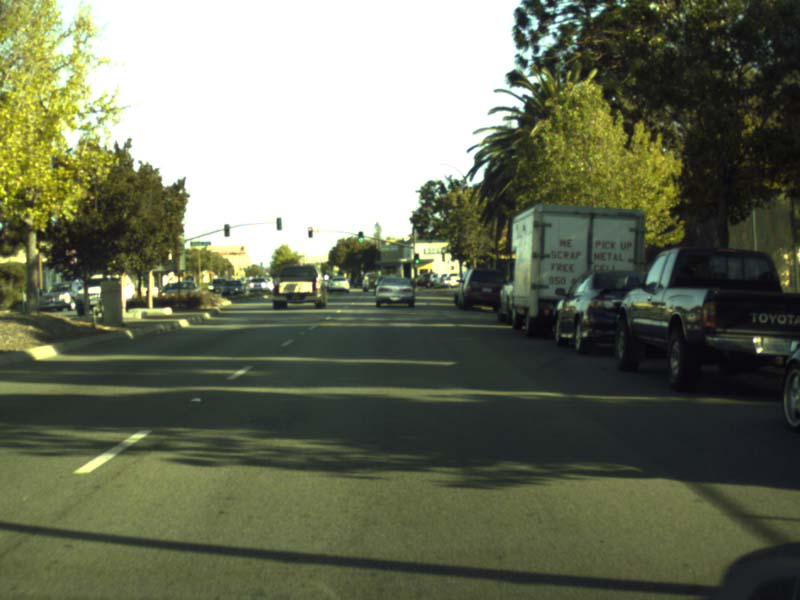Green: (358, 231, 363, 242), (414, 253, 418, 264)
Red: (307, 226, 312, 238)
